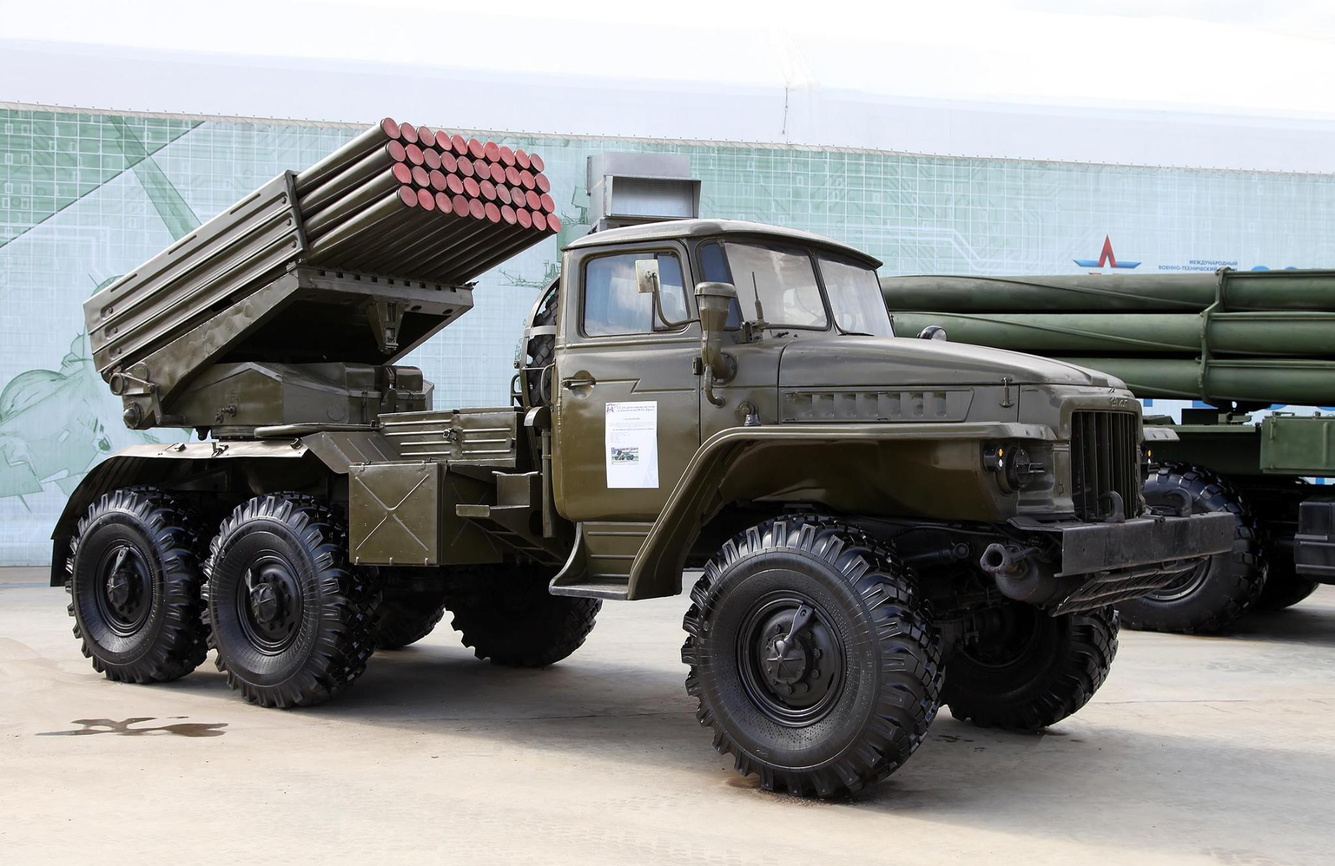rszo: (62, 98, 1237, 835), (847, 237, 1335, 626)
